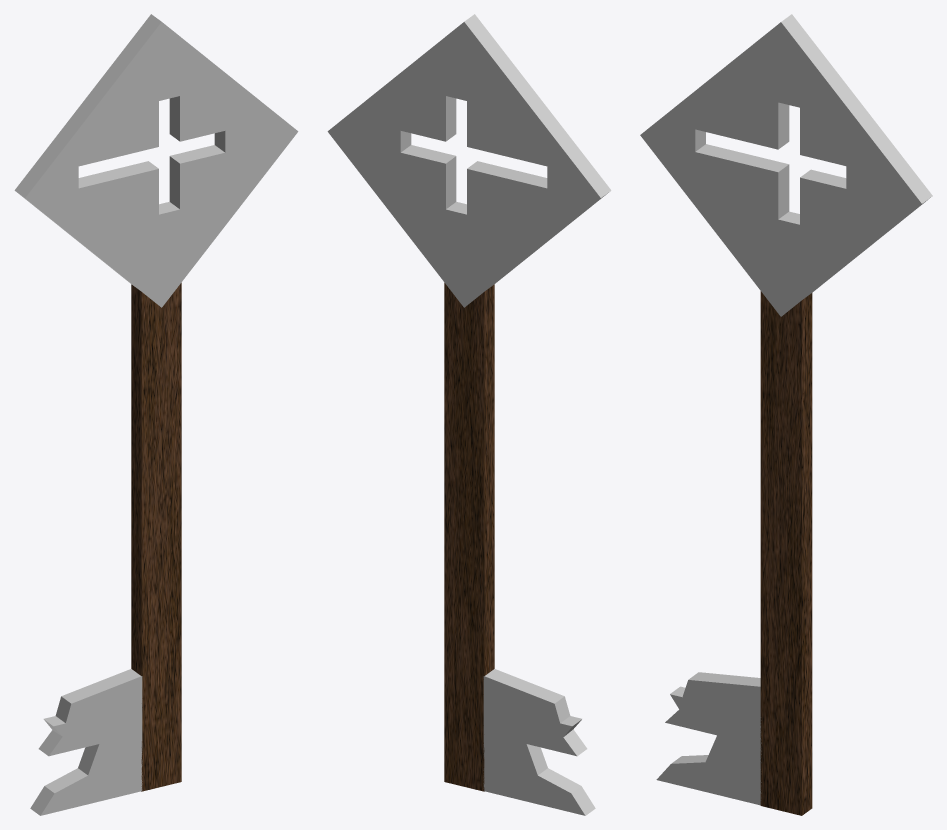
The model's file is llave.obj.
3 renders of one model, left to right at view 1: azimuth 30°, elevation 25°; view 2: azimuth 150°, elevation 25°; view 3: azimuth 330°, elevation 25°, orthographic. The views are drawn at different scales.
Parts seen in each view (by area): view 1: Cube.001, Cube, Cube.002; view 2: Cube.001, Cube, Cube.002; view 3: Cube.001, Cube, Cube.002.
Part boxes in pixels (box(x1,y1,x2,y2)): Cube.001: box(14, 14, 298, 307); Cube: box(131, 282, 181, 791); Cube.002: box(30, 669, 142, 815); Cube.001: box(327, 14, 611, 307); Cube: box(444, 282, 494, 791); Cube.002: box(483, 669, 595, 815); Cube.001: box(640, 14, 932, 316); Cube: box(760, 291, 812, 815); Cube.002: box(656, 672, 761, 805).
Bounding box in the file's own units: 1.13 × 3.03 × 0.076.
